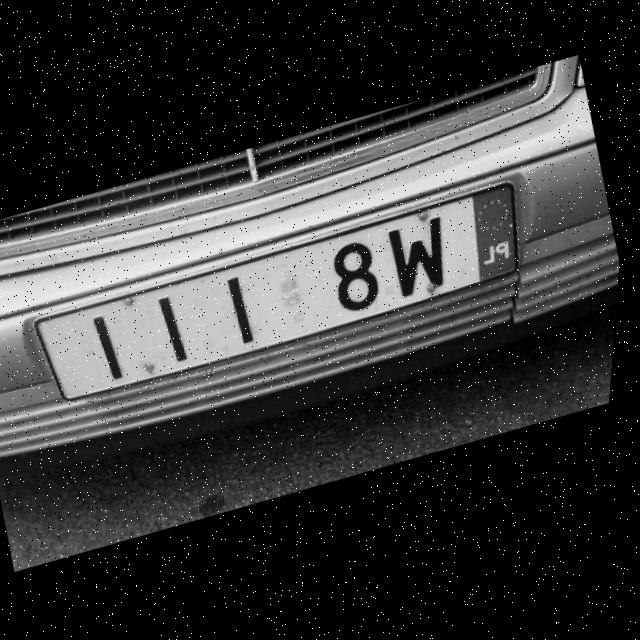license-plates: (37, 186, 516, 400)
